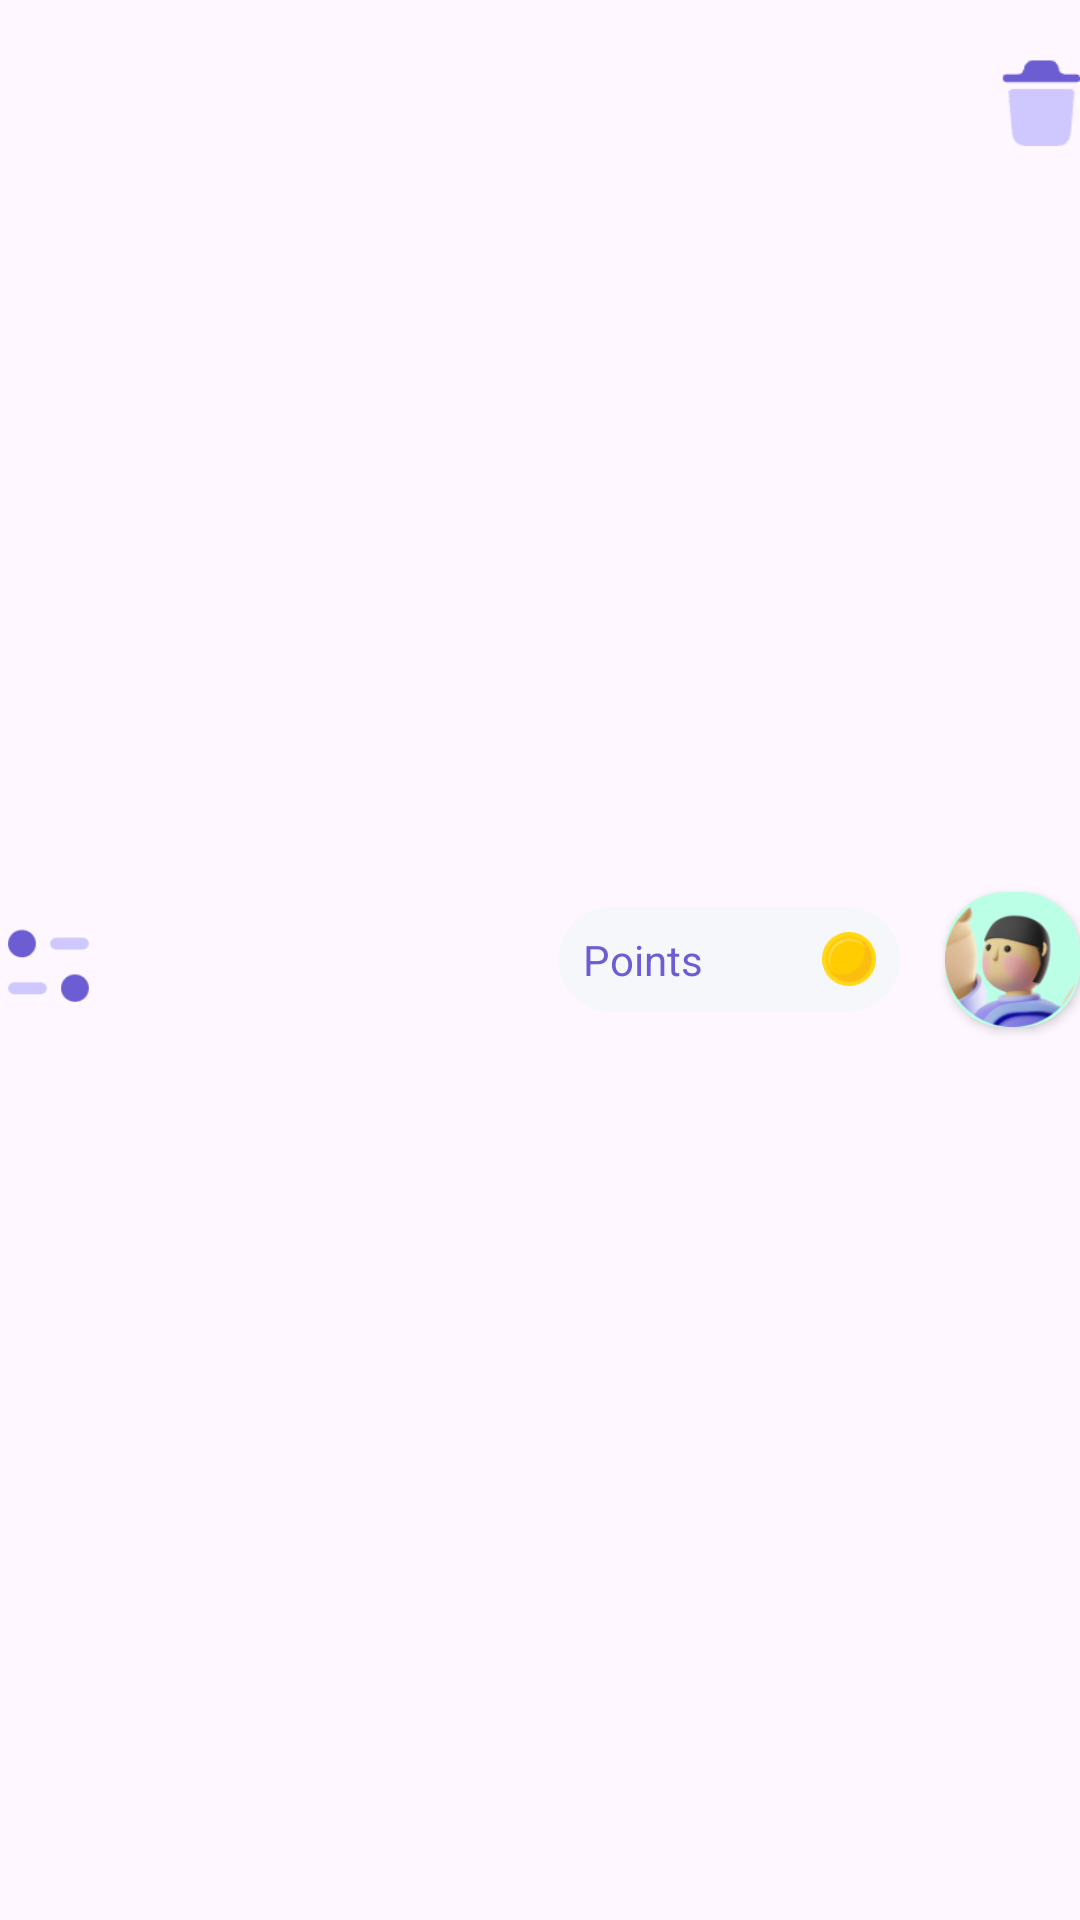

Icon bounding boxes for this 1080*1920 phone screenshot, format box(x1, y1, x2, y2):
coin: box(822, 932, 876, 986)
delete: box(1002, 60, 1080, 146)
